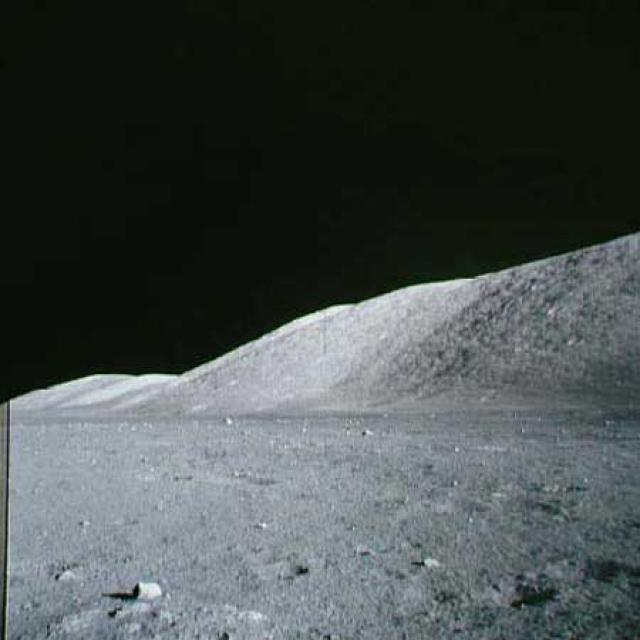rock: (129, 577, 166, 602)
